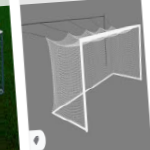goals: (45, 22, 143, 132)
